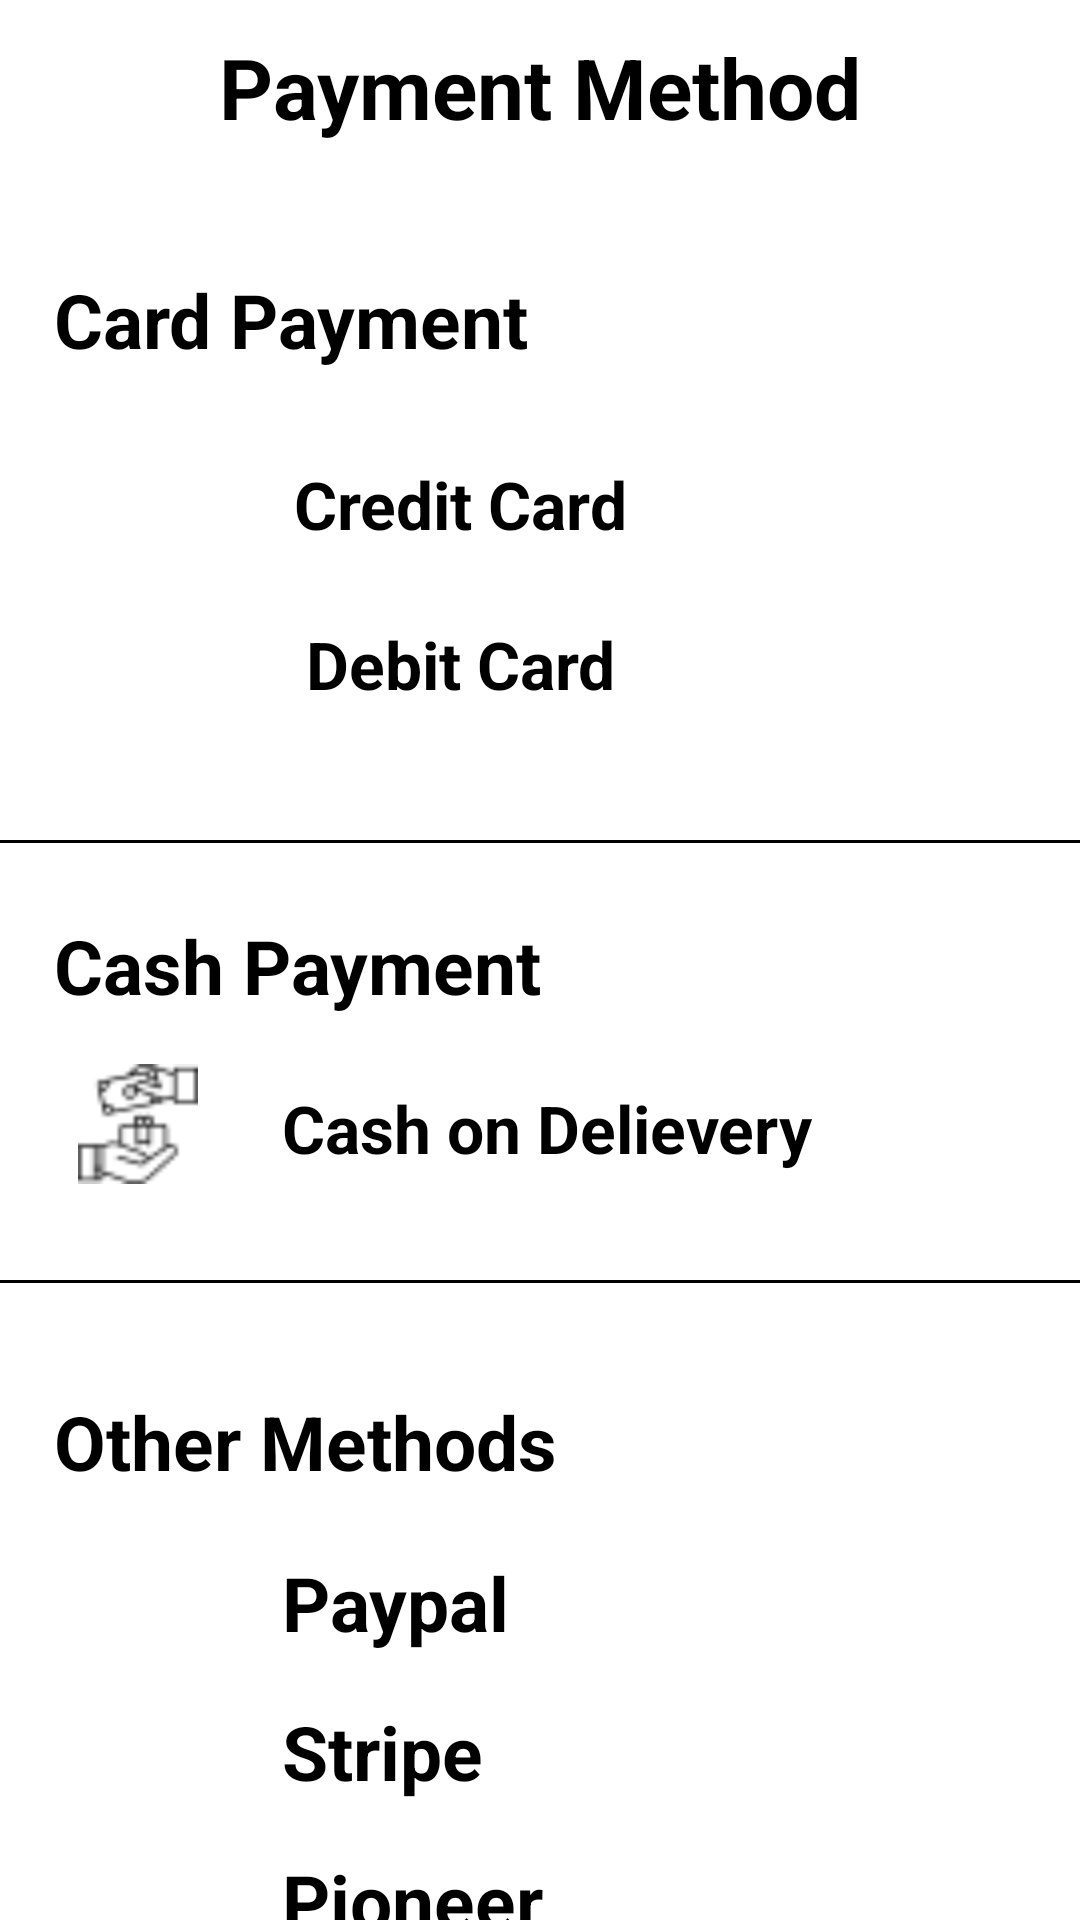

Icon click points for this 1080px x 1920px phone screenshot, format (x=x, y=y):
cashondelivery: (x=138, y=1124)
